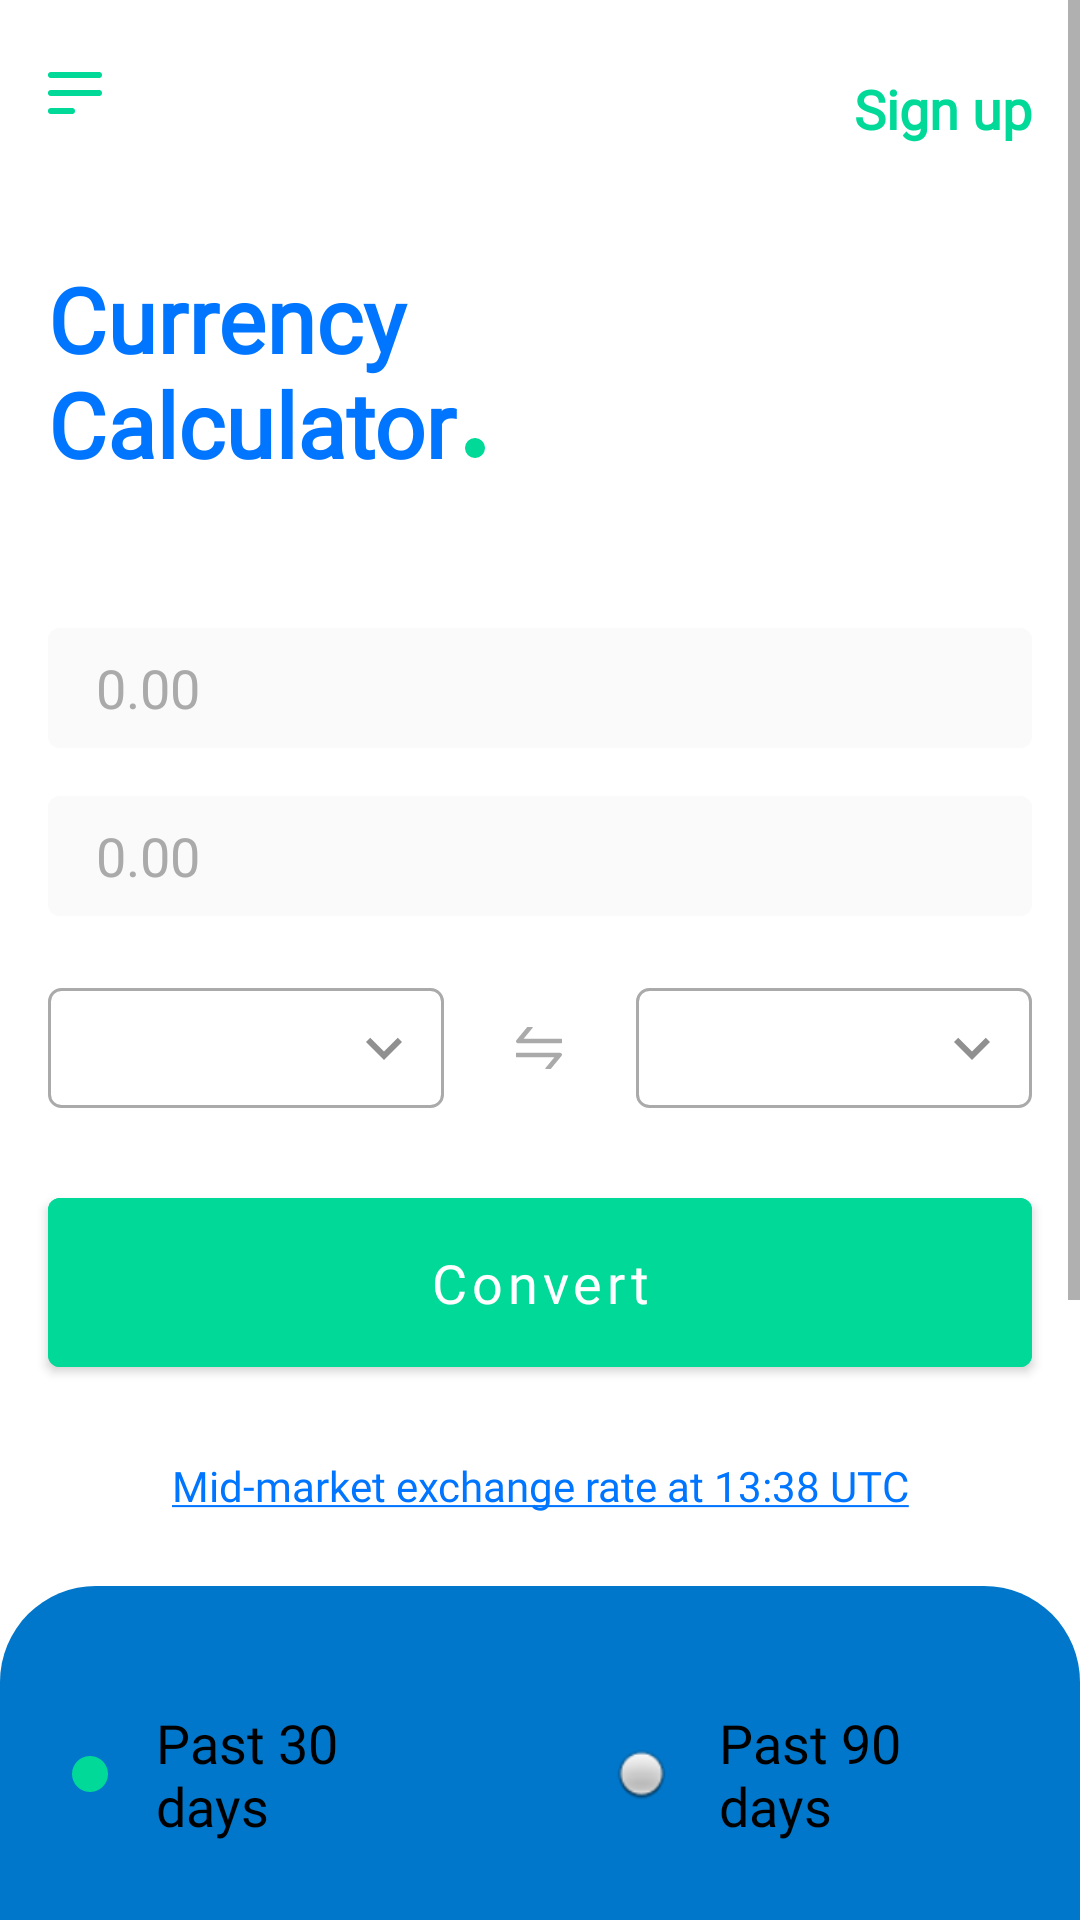

Icon click points for this 1080*1920 phone screenshot, format (x,y):
menu: (75,93)
swap: (539,1048)
